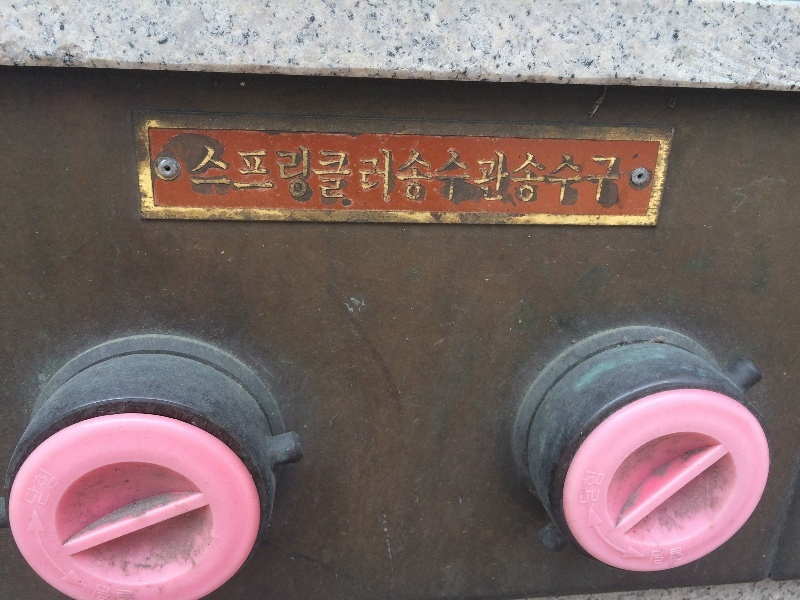text: (209, 143, 224, 211), (225, 143, 240, 211), (241, 143, 256, 211), (257, 143, 272, 211), (273, 143, 288, 211), (289, 143, 304, 211), (305, 143, 320, 211), (321, 143, 336, 211), (337, 143, 352, 211), (353, 143, 368, 211), (369, 143, 384, 211), (385, 143, 400, 211), (401, 143, 416, 211), (417, 143, 432, 211), (433, 143, 448, 211), (449, 143, 464, 211), (465, 143, 480, 211), (481, 143, 496, 211), (497, 143, 512, 211), (513, 143, 528, 211), (529, 143, 544, 211), (545, 143, 560, 211), (561, 143, 576, 211), (577, 143, 592, 211), (593, 143, 608, 211), (609, 143, 624, 211), (195, 143, 208, 211), (35, 467, 48, 511), (593, 470, 607, 506), (49, 467, 59, 511), (657, 546, 672, 568), (584, 470, 592, 506), (673, 546, 686, 568), (97, 585, 112, 600), (113, 585, 128, 600), (625, 143, 628, 211), (649, 546, 656, 568), (91, 585, 96, 600), (129, 585, 134, 600)
